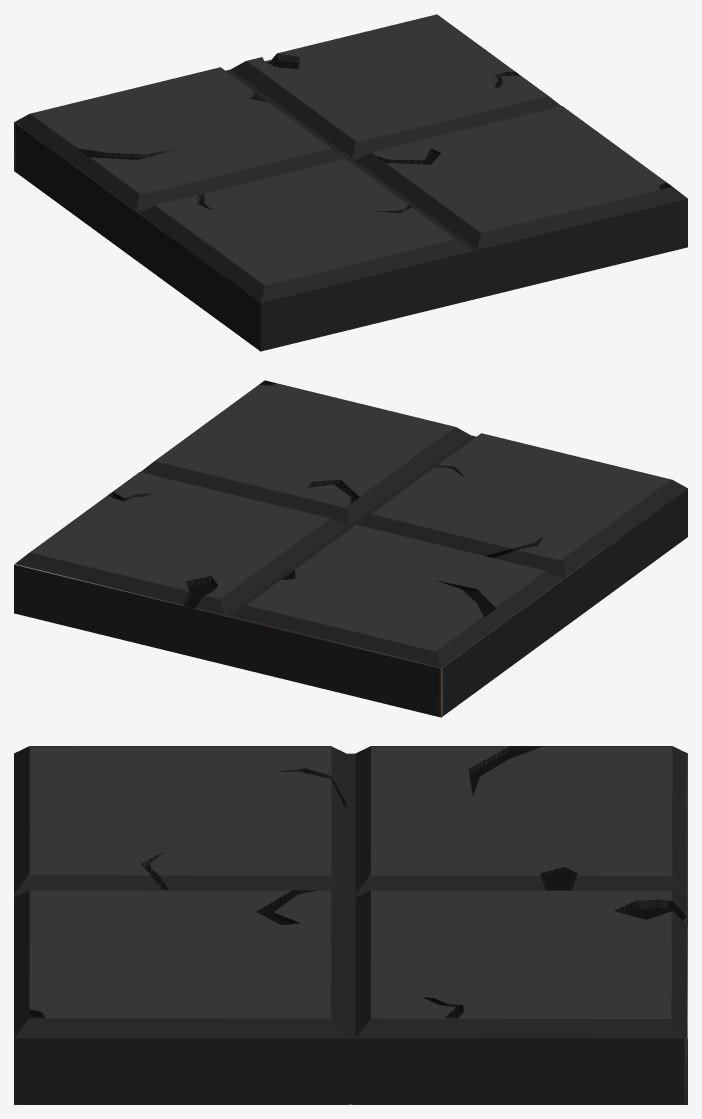
File: Floor.fbx
3 renders of one model, top to bottom at view 1: azimuth 30°, elevation 25°; view 2: azimuth 150°, elevation 25°; view 3: azimuth 270°, elevation 25°, orthographic. The views are drawn at different scales.
Visible parts, largest first — view 1: pCube1; view 2: pCube1; view 3: pCube1.
Part boxes in pixels (x1,y1,x2,y2): pCube1: (14, 14, 687, 351); pCube1: (14, 380, 687, 717); pCube1: (14, 746, 687, 1104).
Size of the model in its own units: 6.53 by 0.862 by 6.53.
